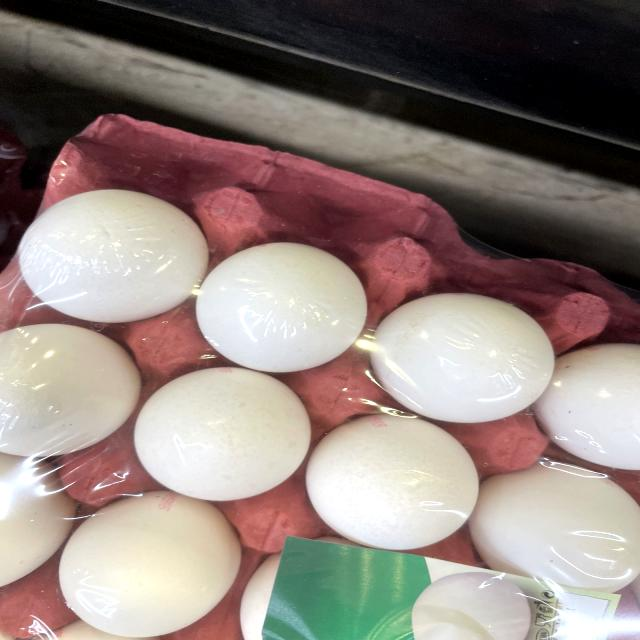egg: (363, 274, 560, 425), (10, 186, 214, 326), (299, 388, 472, 547), (55, 488, 238, 637), (121, 353, 304, 500), (195, 230, 373, 377)
